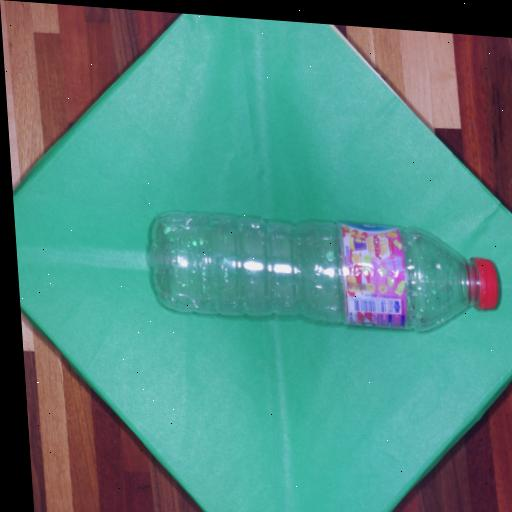bottle: (133, 188, 512, 345)
